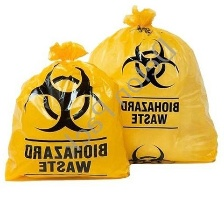plastic_bag: (74, 2, 224, 165), (0, 35, 137, 186)
